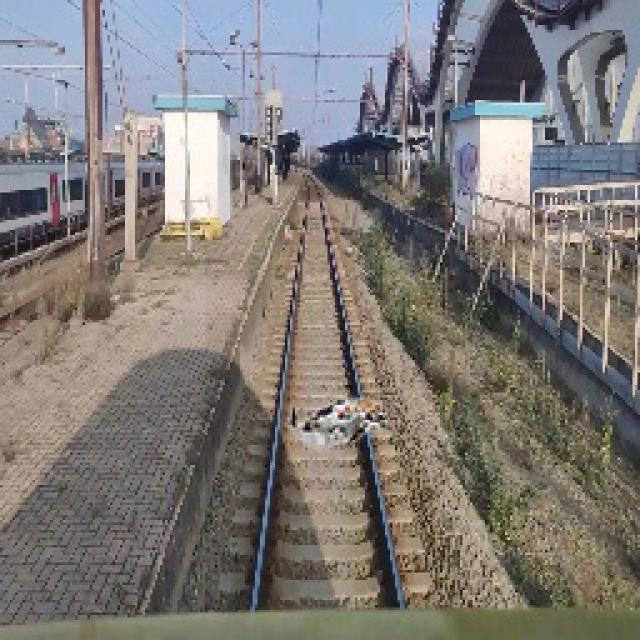rail: (206, 159, 446, 613)
